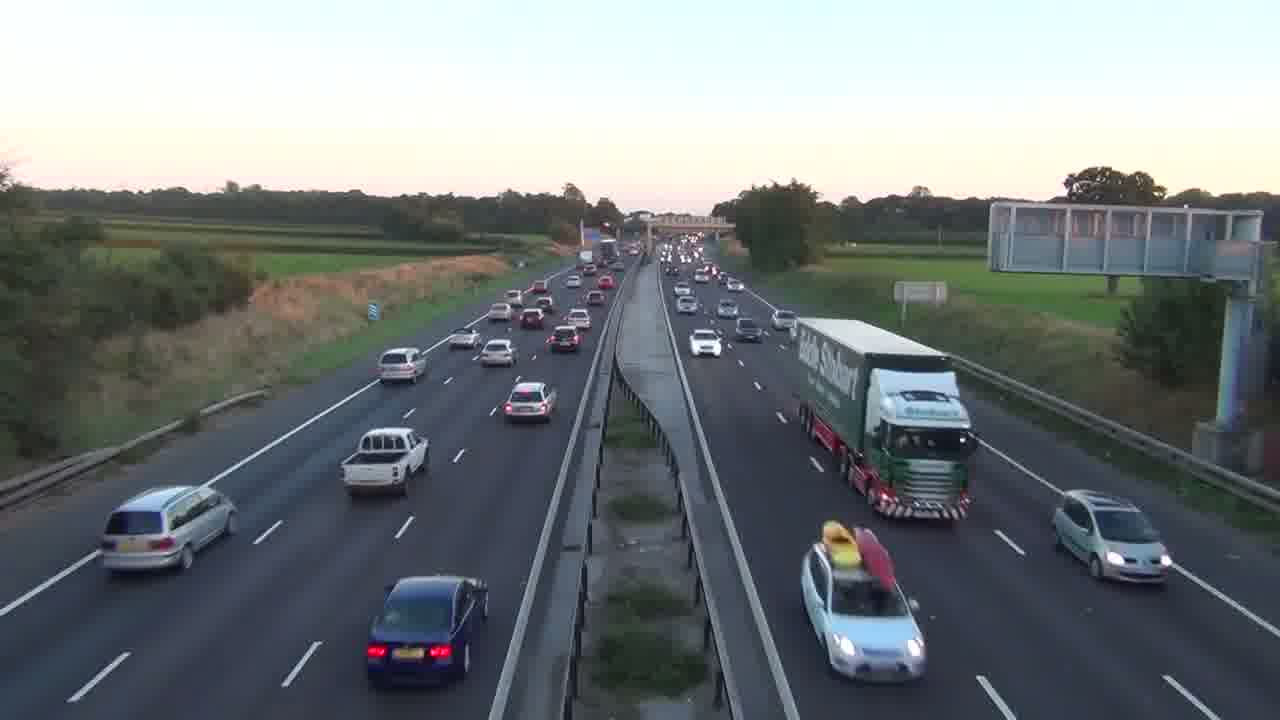car: (800, 532, 929, 685), (364, 574, 490, 690), (98, 483, 236, 575), (1052, 488, 1173, 586), (339, 426, 430, 497), (504, 379, 559, 423), (377, 346, 431, 384), (478, 338, 515, 367), (689, 328, 723, 358)
truck: (794, 316, 979, 526)
